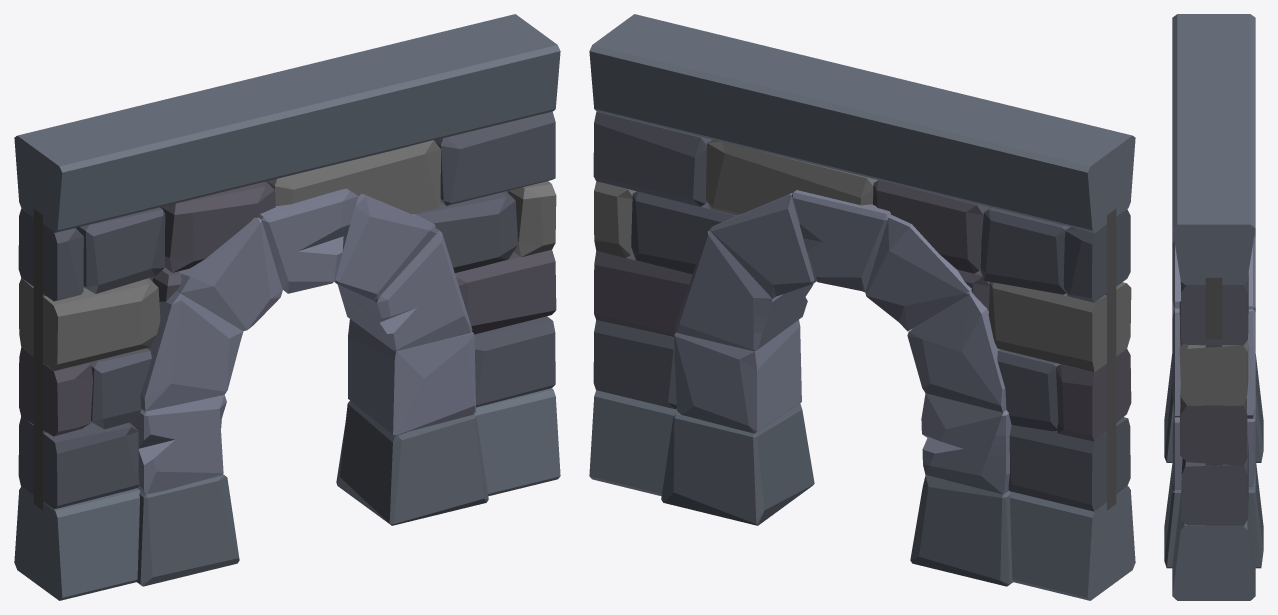
File: Wall_Door.fbx
3 views of the same model, side by side, from view 1: azimuth 30°, elevation 25°; view 2: azimuth 150°, elevation 25°; view 3: azimuth 270°, elevation 25° (orthographic). The views are drawn at different scales.
Visible parts, largest first — view 1: Muro_Puerta; view 2: Muro_Puerta; view 3: Muro_Puerta.
Boxes of the visible parts, x1,y1,x2,y2 form: Muro_Puerta: (14, 14, 560, 600); Muro_Puerta: (589, 14, 1135, 600); Muro_Puerta: (1164, 14, 1263, 600).
Size of the model in its own units: 601 by 500 by 119.
